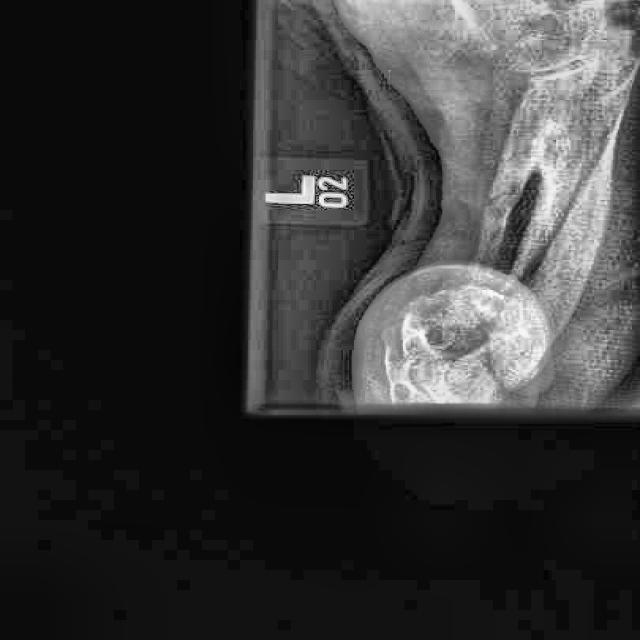elbow positive: (447, 143, 583, 305)
